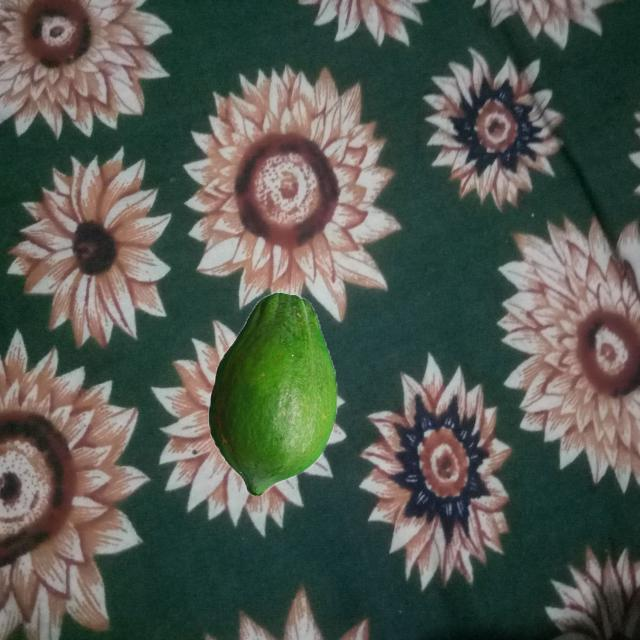Pepaya unrippen: (200, 293, 345, 495)
